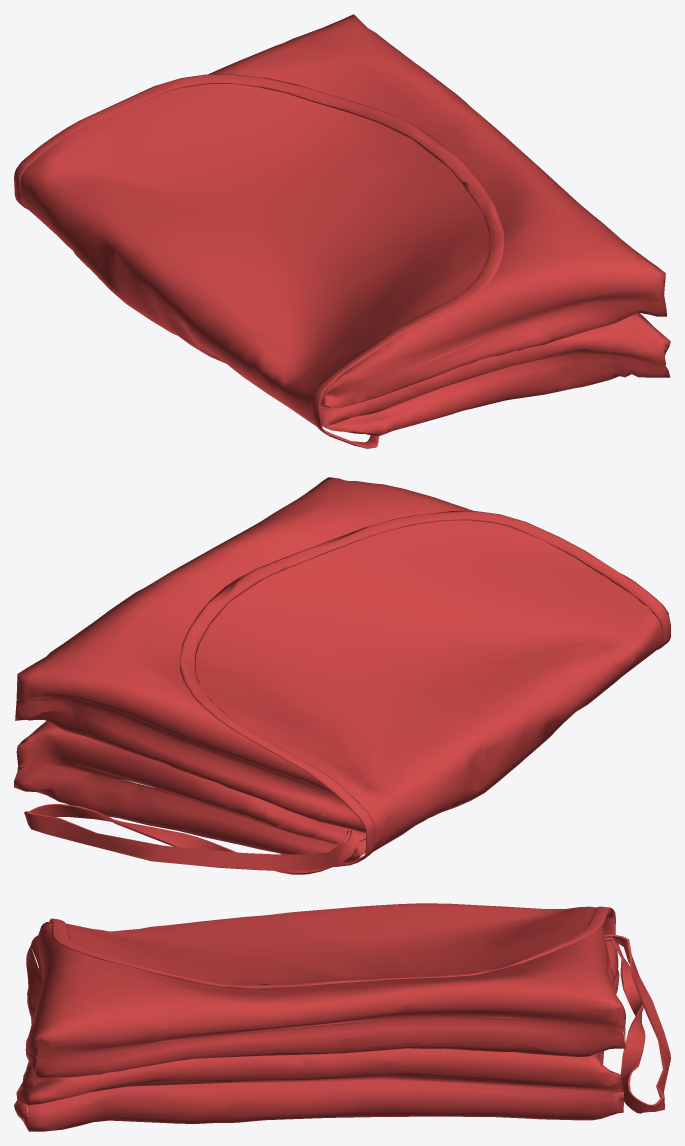
File: sumka_2.gltf
The picture shows the model from 3 angles, top to bottom: view 1: azimuth 30°, elevation 25°; view 2: azimuth 150°, elevation 25°; view 3: azimuth 270°, elevation 25°; orthographic projection. The views are drawn at different scales.
Parts seen in each view (by area): view 1: handbag001; view 2: handbag001; view 3: handbag001.
Boxes of the visible parts, x1,y1,x2,y2 form: handbag001: [14, 14, 670, 448]; handbag001: [14, 477, 670, 874]; handbag001: [14, 903, 670, 1131].
Size of the model in its own units: 14.05 by 5.57 by 24.
